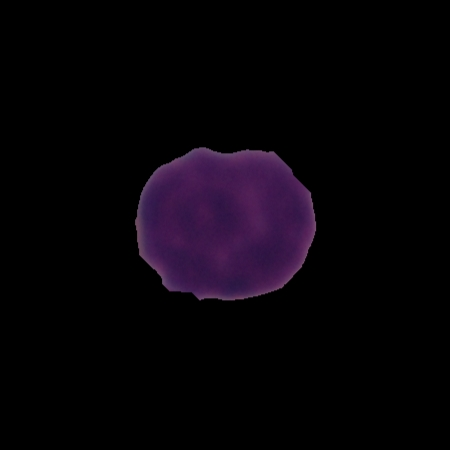HEM: (131, 143, 320, 304)
